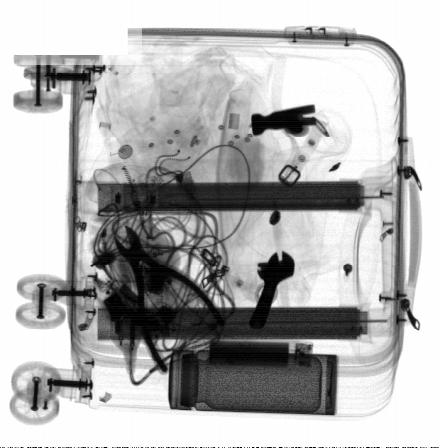Hammer: (250, 104, 318, 137)
Pliers: (113, 222, 227, 375)
Powerbank: (209, 338, 314, 370)
Wrench: (248, 248, 295, 330)
